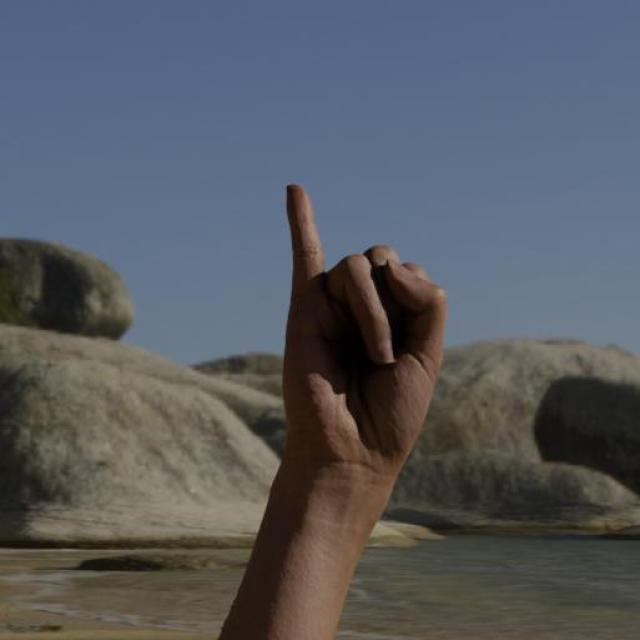I: (280, 180, 451, 479)
